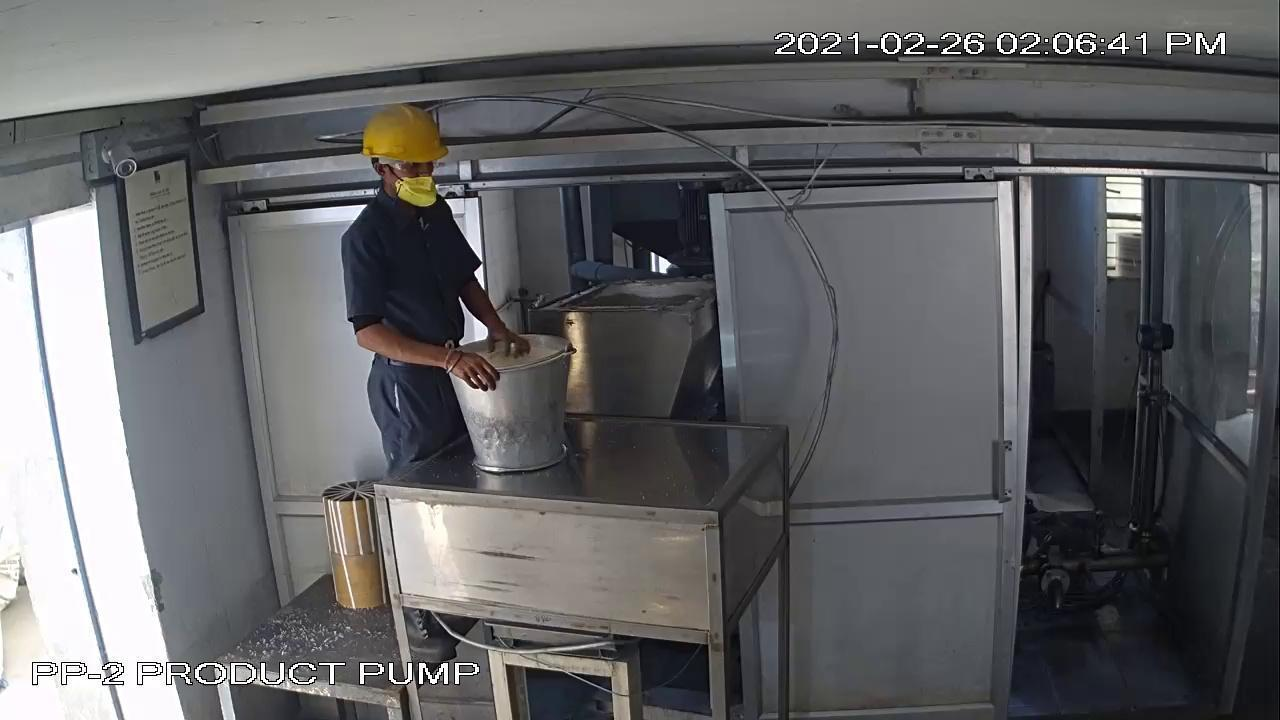helmet: (351, 93, 456, 171)
